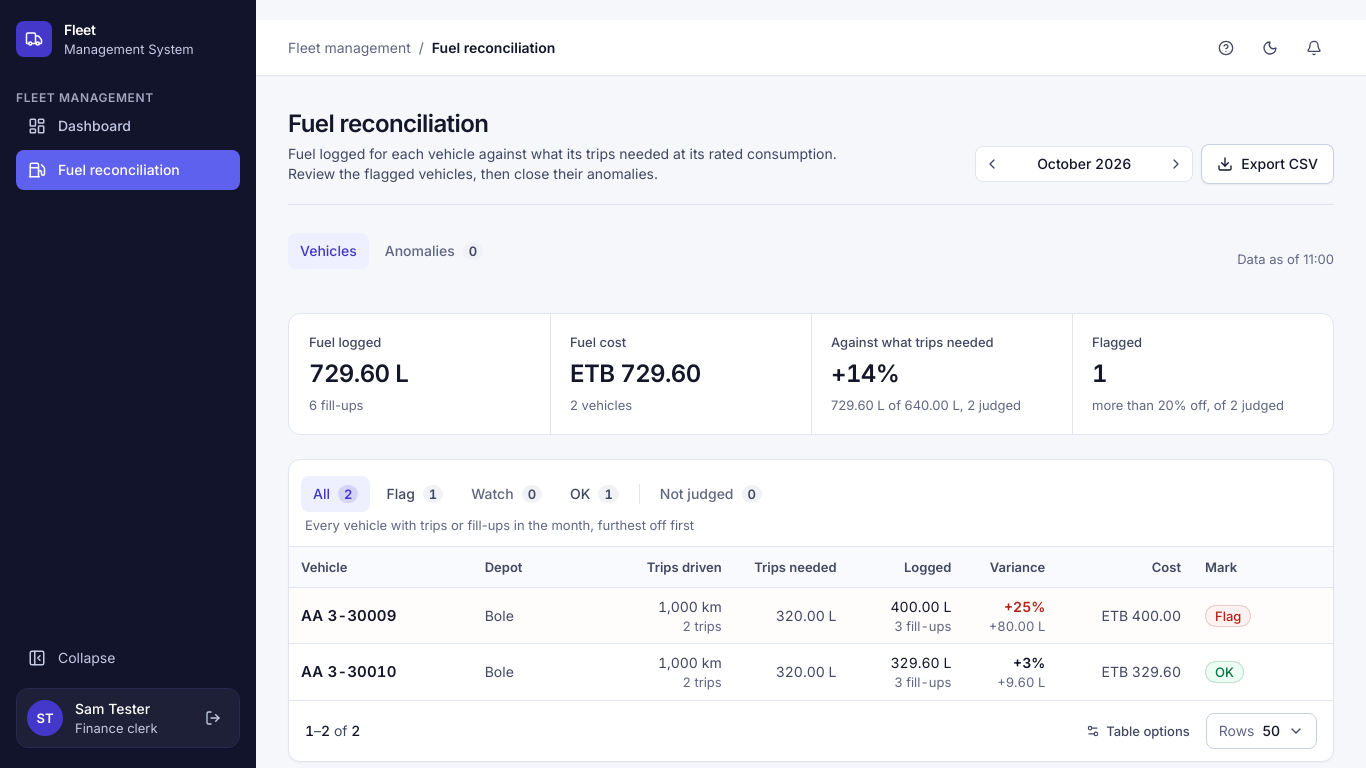
it: Fuel reconciliation (S-15) › exports every vehicle of the month as CSV, in litres and birr
The width and height of the screenshot is (1366, 768).
Click the button "Export CSV" at {"x": 1268, "y": 164}, box [1201,144,1334,184]
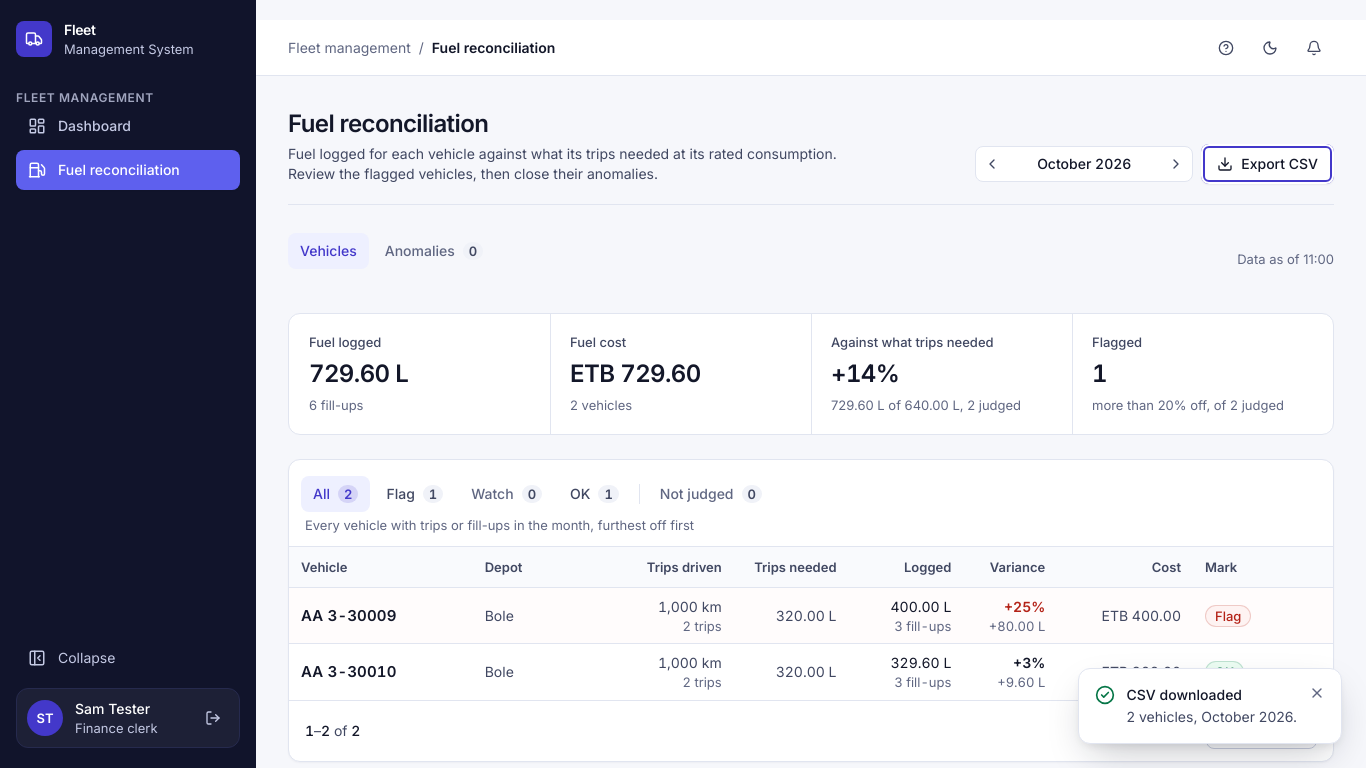
Check: the text "CSV downloaded" is shown, box [1126,686,1242,703]
